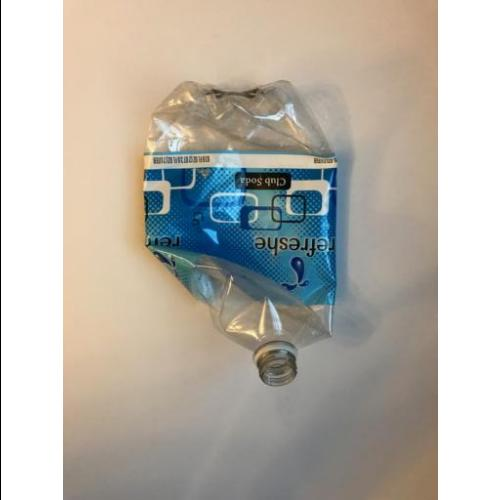plastic: (141, 80, 337, 385)
